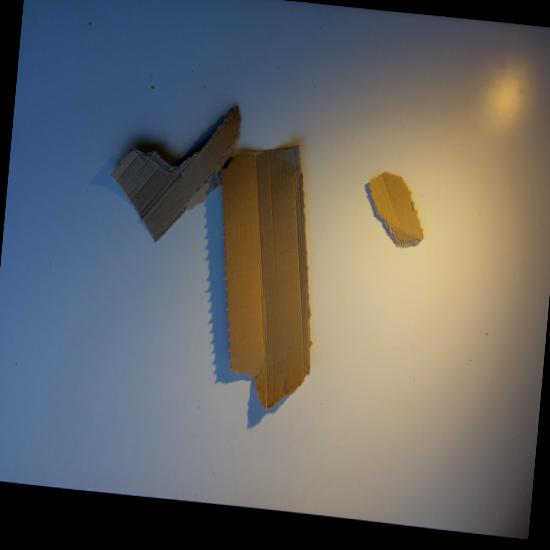Corrugated carton: (221, 144, 311, 410), (110, 106, 240, 242), (368, 172, 423, 248)
